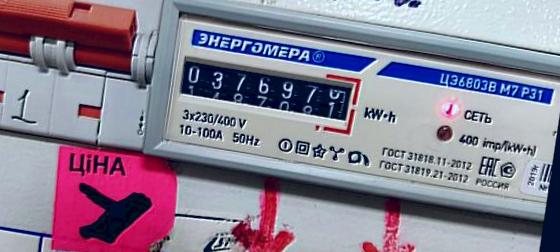0: (186, 64, 202, 86)
1: (325, 100, 338, 119)
3: (210, 69, 225, 91)
6: (256, 73, 272, 96)
7: (303, 82, 318, 106), (232, 71, 248, 93)
9: (280, 79, 295, 101)
screen: (169, 47, 366, 137)
